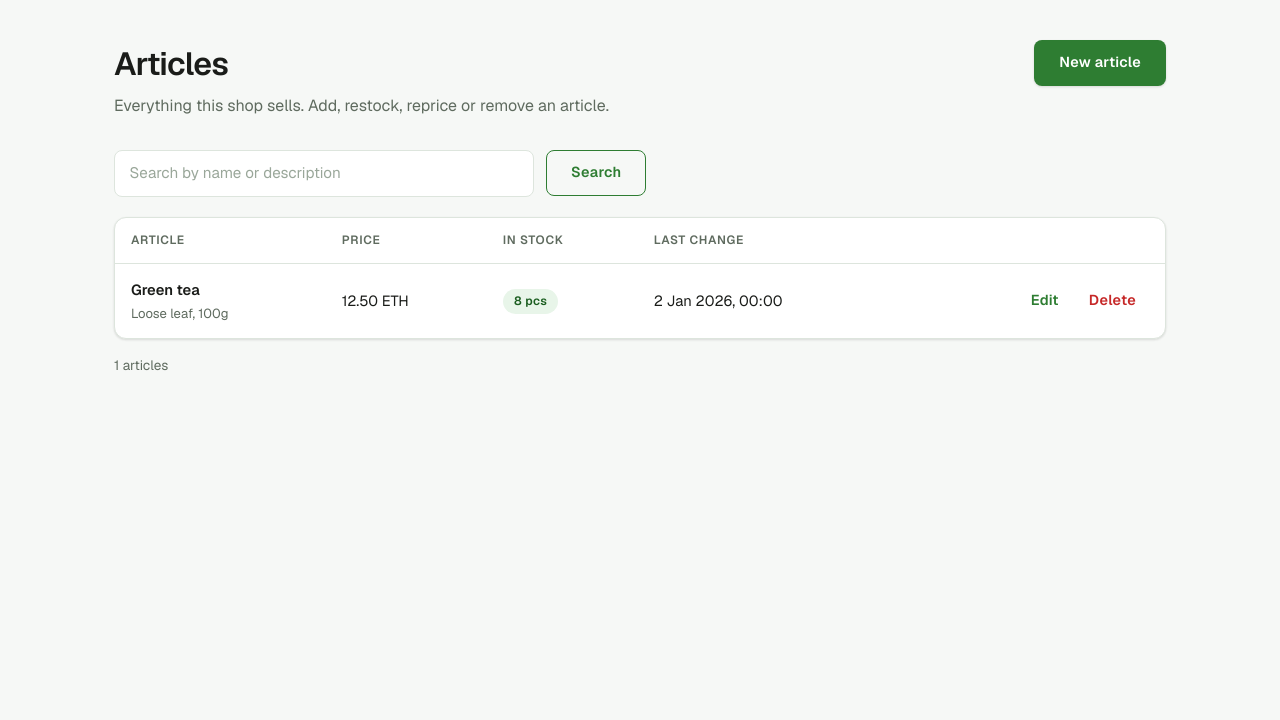
Test: AdminArticlesPage › adding an article › refuses a price the price column could not store exactly
The width and height of the screenshot is (1280, 720).
Click the button "New article" at (1100, 63), box [1034,40,1166,86]
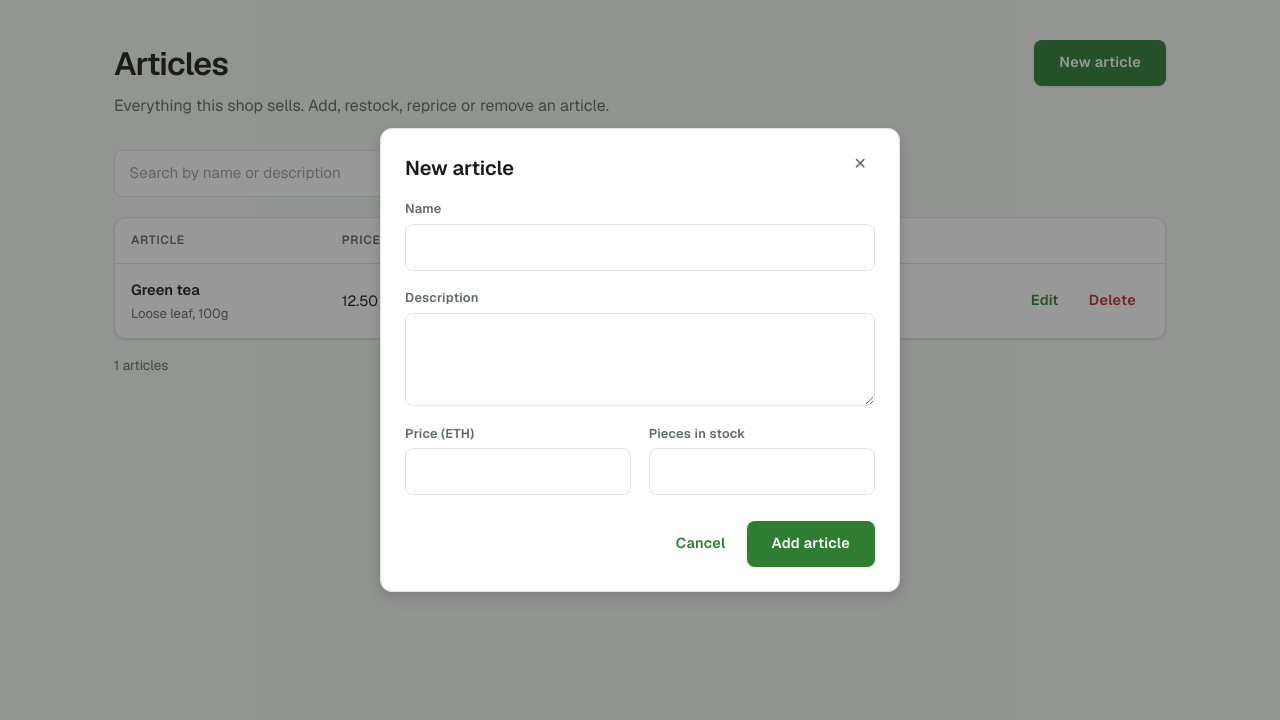
Type "Too precise" into the field labelled "Name" at (640, 247), box [405,224,875,271]
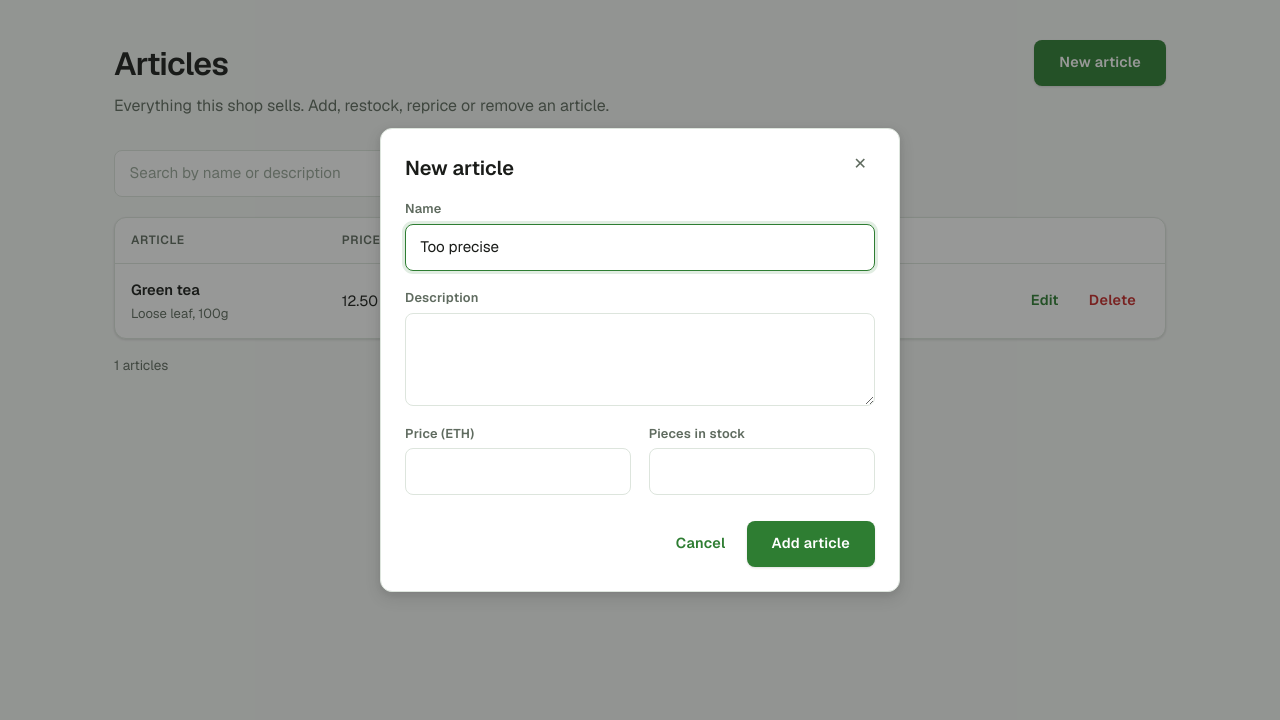
Type "1.005" into the number field labelled "Price (ETH)" at (518, 472), box [405,448,631,496]
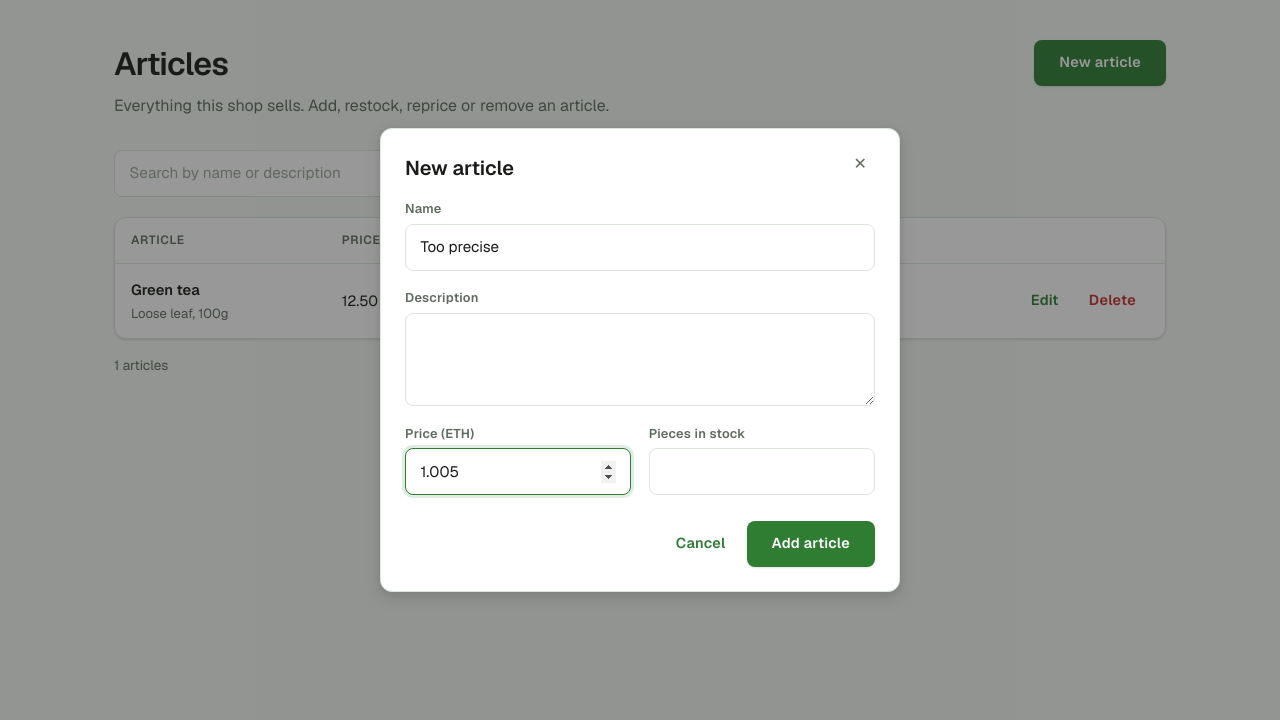
Type "1" into the number field labelled "Pieces in stock" at (762, 472), box [649,448,875,496]
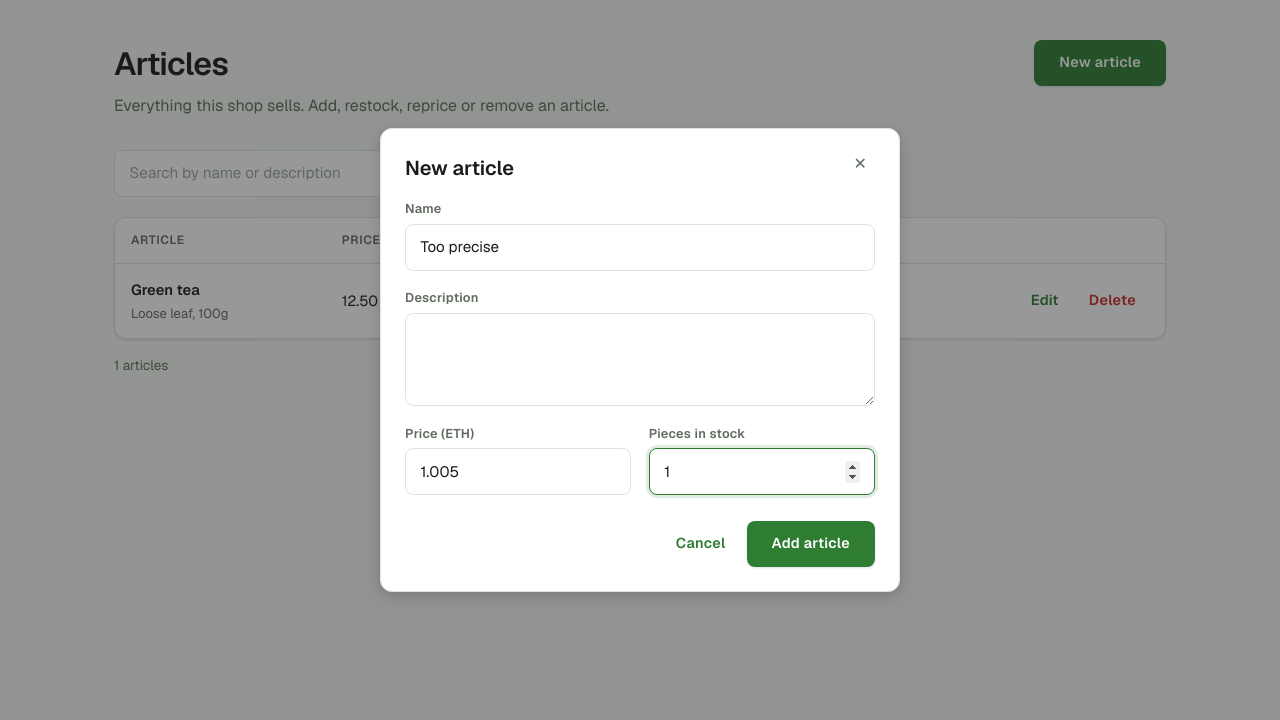
Click the button "Add article" at (811, 544), box [746,521,875,567]
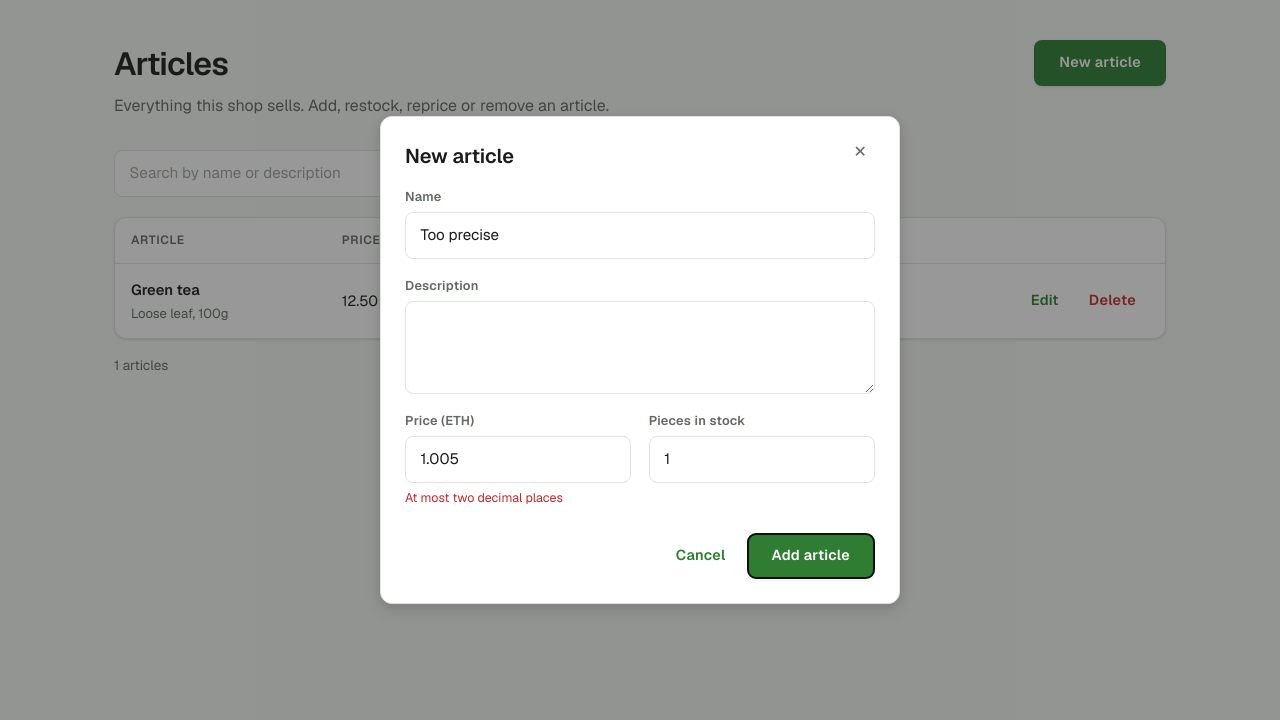
Expected: the text "At most two decimal places" is shown, [405,489,563,506]
